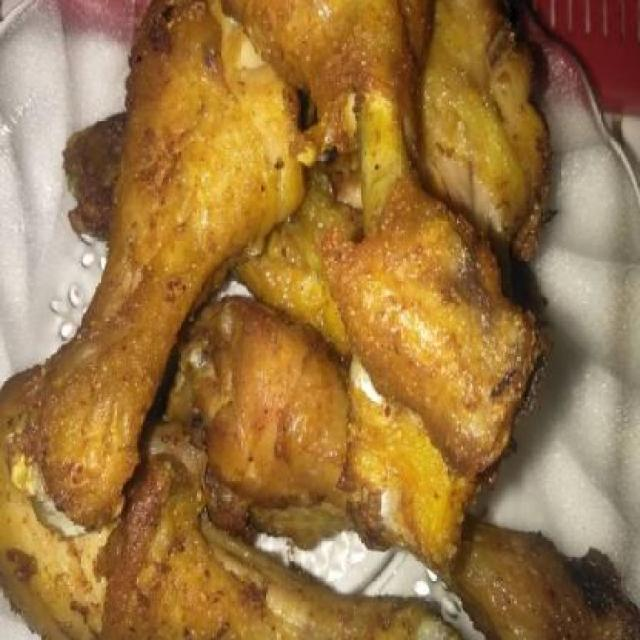Wet Waste: (223, 0, 546, 474), (200, 314, 635, 638), (31, 0, 295, 523), (0, 356, 452, 635), (356, 0, 546, 545)
